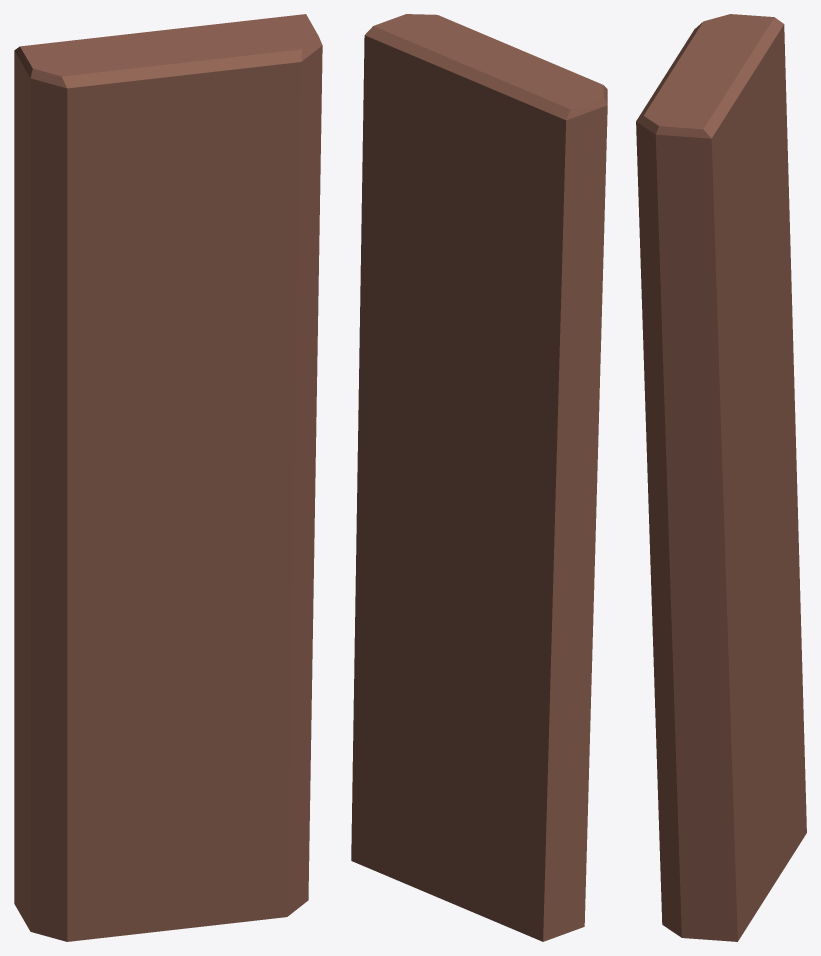
File: maskboard2.fbx
The picture shows the model from 3 angles, left to right: view 1: azimuth 30°, elevation 25°; view 2: azimuth 150°, elevation 25°; view 3: azimuth 270°, elevation 25°; orthographic projection. The views are drawn at different scales.
Parts seen in each view (by area): view 1: maskboard2; view 2: maskboard2; view 3: maskboard2.
Part boxes in pixels (<box>): maskboard2: <box>14,14,322,941</box>; maskboard2: <box>351,14,607,941</box>; maskboard2: <box>636,14,806,941</box>.
Size of the model in its own units: 28.92 by 90.76 by 17.27.
